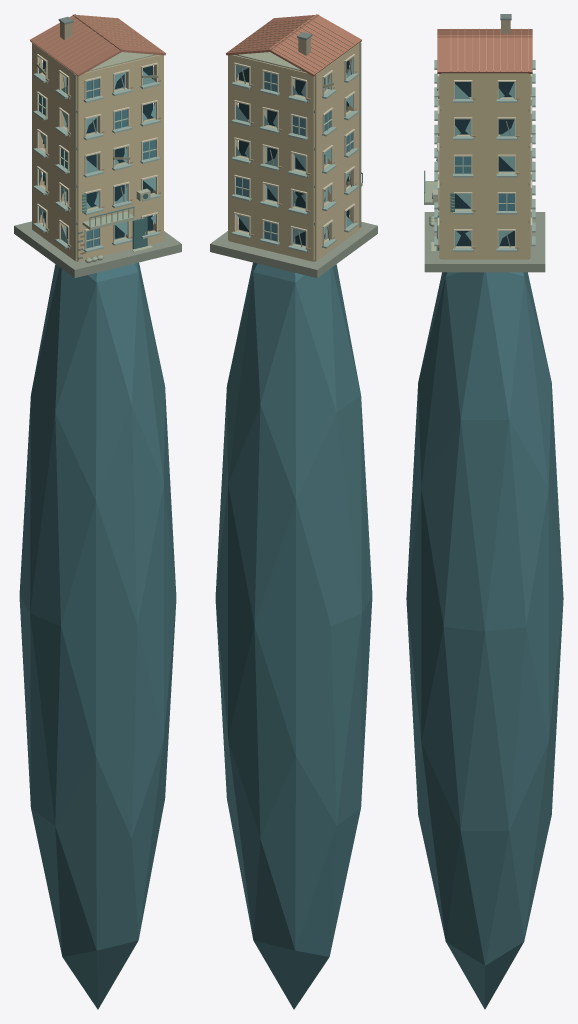
The model's file is house_00.glb.
3 views of the same model, side by side, from view 1: azimuth 30°, elevation 25°; view 2: azimuth 150°, elevation 25°; view 3: azimuth 270°, elevation 25° (orthographic).
Parts seen in each view (by area): view 1: house_00; view 2: house_00; view 3: house_00.
Boxes of the visible parts, bbox=[...] form: house_00: bbox=[14, 14, 181, 1009]; house_00: bbox=[210, 14, 377, 1009]; house_00: bbox=[406, 14, 563, 1009].
Bounding box in the file's own units: 12.16 × 84.51 × 12.24.
